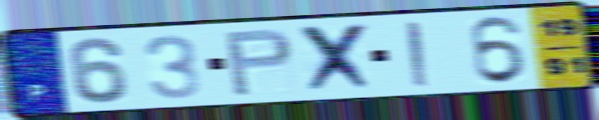3: (142, 33, 202, 100)
6: (65, 35, 129, 106), (467, 14, 529, 86)
I: (402, 19, 435, 89)
P: (221, 27, 297, 99)
X: (296, 20, 380, 96)
